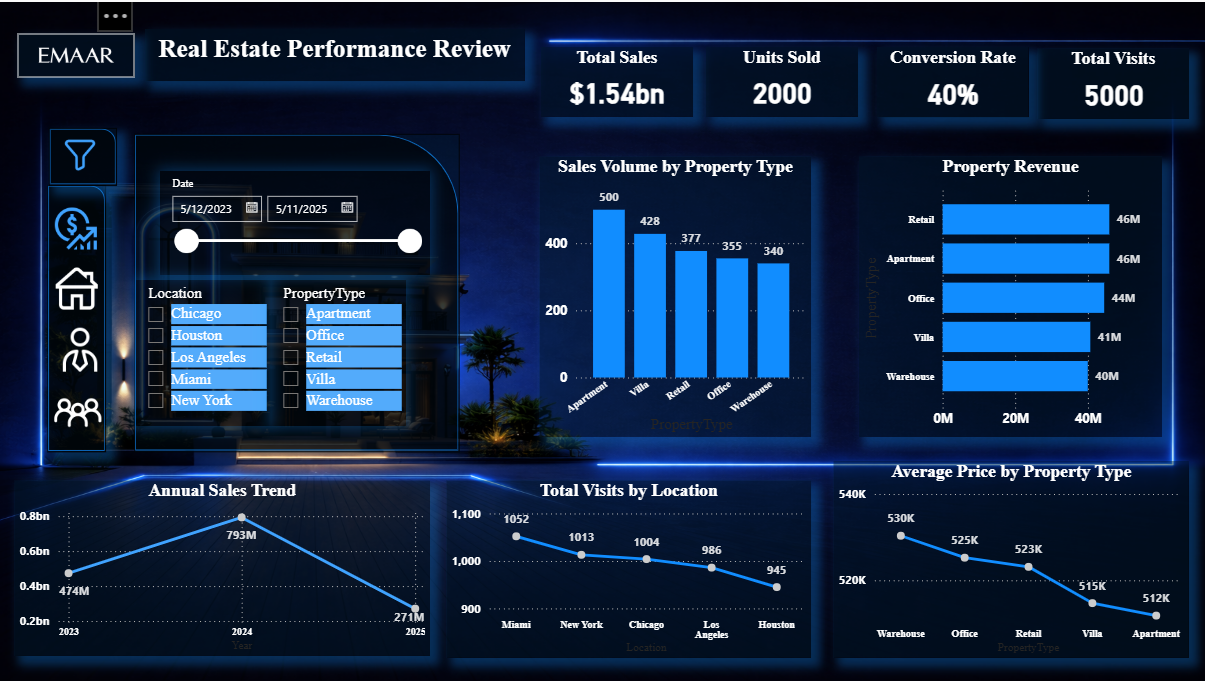

Layout of this report page (visuals, bound fields, positions):
{"tool":"powerbi","page":{"name":"Strategic View","canvas":[1280,720],"ordinal":0},"visuals":[{"type":"card","title":"Total Sales","fields":{"Values":["_All_Measures.Total Sales"]},"box":[575.1,47.9,161,74],"z":0},{"type":"card","title":"Units Sold","fields":{"Values":["_All_Measures.Units Sold"]},"box":[750.9,47.9,161,74],"z":1000},{"type":"card","title":"Total Visits","fields":{"Values":["_All_Measures.Total Visits"]},"box":[1102.3,49.3,160.7,74.8],"z":2000},{"type":"card","title":"Conversion Rate","fields":{"Values":["_All_Measures.Conversion Rate"]},"box":[932.1,47.7,160.7,74.8],"z":3000},{"type":"lineChart","title":"Annual Sales Trend","fields":{"Category":["Dim_Date.Date.Variation.Date Hierarchy.Year","Dim_Date.Date.Variation.Date Hierarchy.Month"],"Y":["Sum(Sales.SalePrice)"]},"box":[17.5,507.4,440.6,186.1],"z":4000},{"type":"clusteredColumnChart","title":"Sales Volume by Property Type","fields":{"Category":["Properties.PropertyType"],"Y":["_All_Measures.Units Sold"]},"box":[574.5,163.4,288.2,297.4],"z":5000},{"type":"clusteredBarChart","title":"Property Revenue","fields":{"Y":["Sum(Sales.SalePrice)"],"Category":["Properties.PropertyType"]},"box":[912.3,163.4,321.2,297.4],"z":6000},{"type":"lineChart","fields":{"Category":["Properties.Location"],"Y":["_All_Measures.Total Visits"]},"box":[475.6,507.4,386.5,187.7],"z":7000},{"type":"textbox","box":[156,29.2,402.4,55.4],"z":8000},{"type":"lineChart","title":"Average Price by Property Type","fields":{"Category":["Properties.PropertyType"],"Y":["_All_Measures.Average unit price"]},"box":[886,486.7,377,208.4],"z":9000},{"type":"shape","box":[53,194.8,62.2,283.3],"z":10000},{"type":"image","box":[50.7,217.8,63.3,44.4],"z":11000},{"type":"image","box":[53,281.1,62.2,44.4],"z":12000},{"type":"image","box":[55.2,342.2,62.2,53.3],"z":13000},{"type":"image","box":[55.2,410,57.8,50],"z":14000},{"type":"shape","box":[54.4,133.3,72.2,61.1],"z":15000},{"type":"image","title":"فلتر الغلق","box":[56,140,62,44],"z":18000},{"type":"image","box":[20.2,33,124.8,45.9],"z":19000}]}

Visuals, with their boxes in screenshot pixels (x1, y1, x2, y2), scaled from the page's 1280x720 canvas onto the 1205x681 screenshot:
"Total Sales" card: [541, 45, 693, 115]
"Units Sold" card: [707, 45, 858, 115]
"Total Visits" card: [1038, 47, 1189, 117]
"Conversion Rate" card: [877, 45, 1029, 116]
"Annual Sales Trend" lineChart: [16, 480, 431, 656]
"Sales Volume by Property Type" clusteredColumnChart: [541, 155, 812, 436]
"Property Revenue" clusteredBarChart: [859, 155, 1161, 436]
lineChart - Properties.Location x _All_Measures.Total Visits: [448, 480, 812, 657]
textbox: [147, 28, 526, 80]
"Average Price by Property Type" lineChart: [834, 460, 1189, 657]
shape: [50, 184, 108, 452]
image: [48, 206, 107, 248]
image: [50, 266, 108, 308]
image: [52, 324, 111, 374]
image: [52, 388, 106, 435]
shape: [51, 126, 119, 184]
"فلتر الغلق" image: [53, 132, 111, 174]
image: [19, 31, 137, 75]
